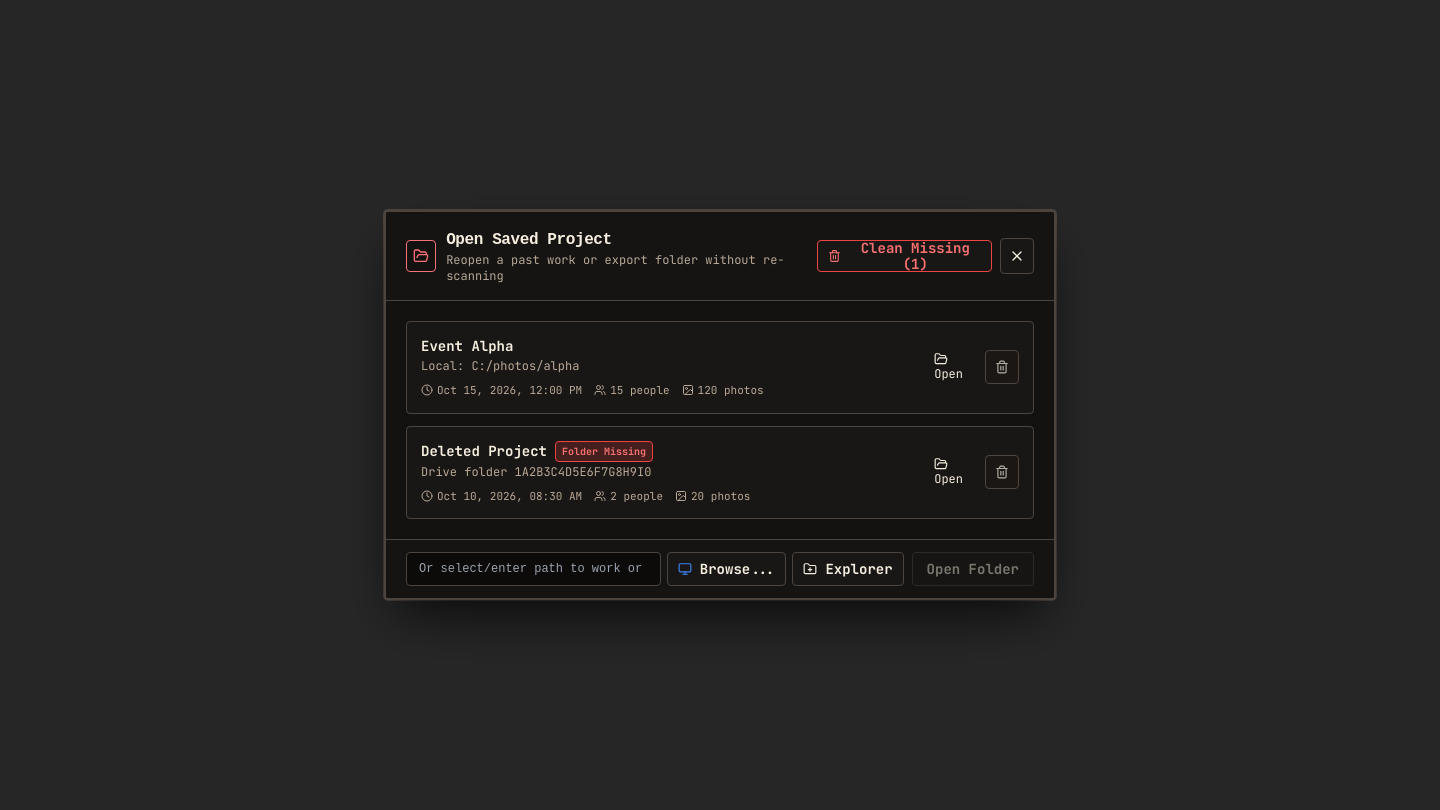
Test: Open Saved Project Feature › handles moved/deleted folder (404) and offers removal from list
Expected: the text "Deleted Project" is shown, x1=421 y1=441 x2=547 y2=461
Click the button with test id "open-project-btn-proj_02".
click(949, 472)  # box x1=920 y1=455 x2=977 y2=489
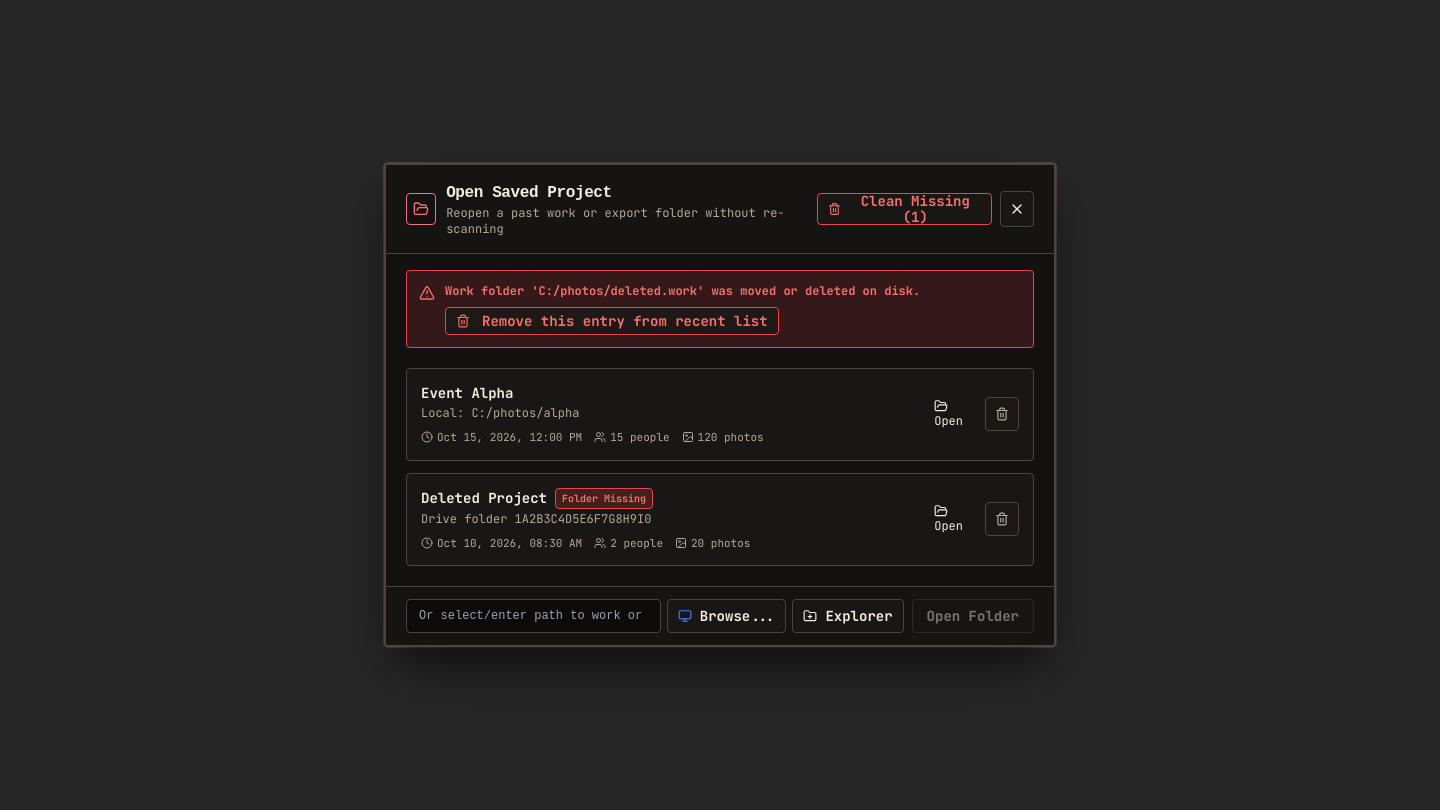
Expected: the element with test id "project-error-alert" is shown, x1=406 y1=270 x2=1034 y2=348
Expected: the text "was moved or deleted on disk" is shown, x1=445 y1=283 x2=920 y2=299
Expected: the button with test id "remove-missing-entry-btn" is shown
Click the button with test id "remove-missing-entry-btn".
click(612, 321)  # box x1=445 y1=307 x2=779 y2=335
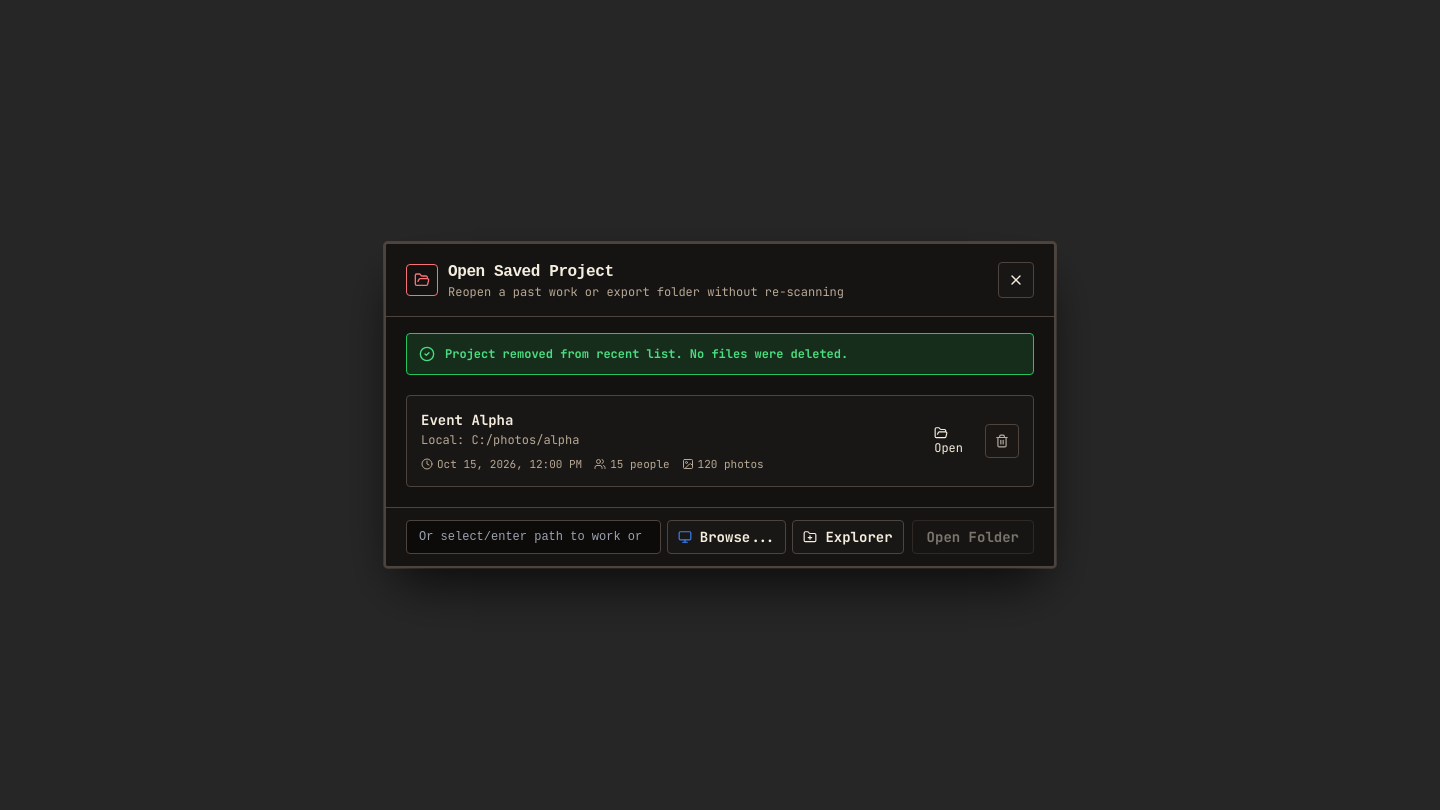
Expected: the text "Deleted Project" is gone
